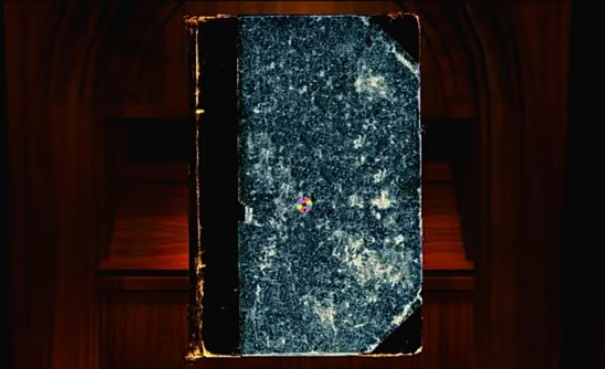Waiting: (292, 193, 316, 213)
